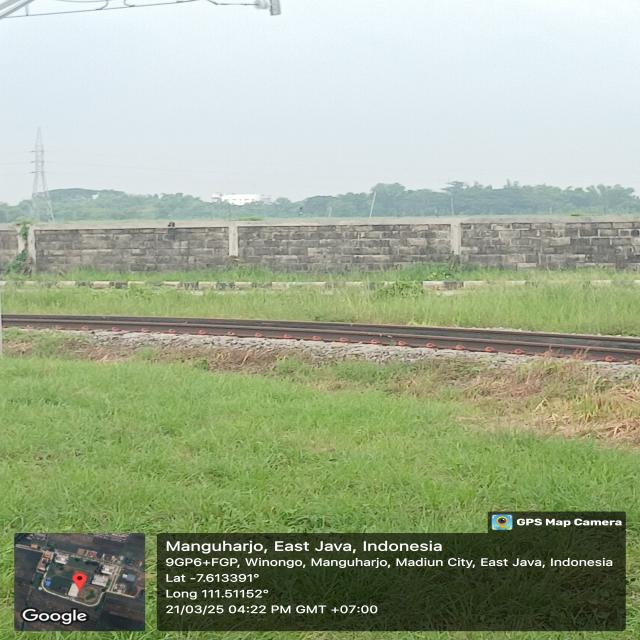rail-detection: (2, 314, 640, 362)
